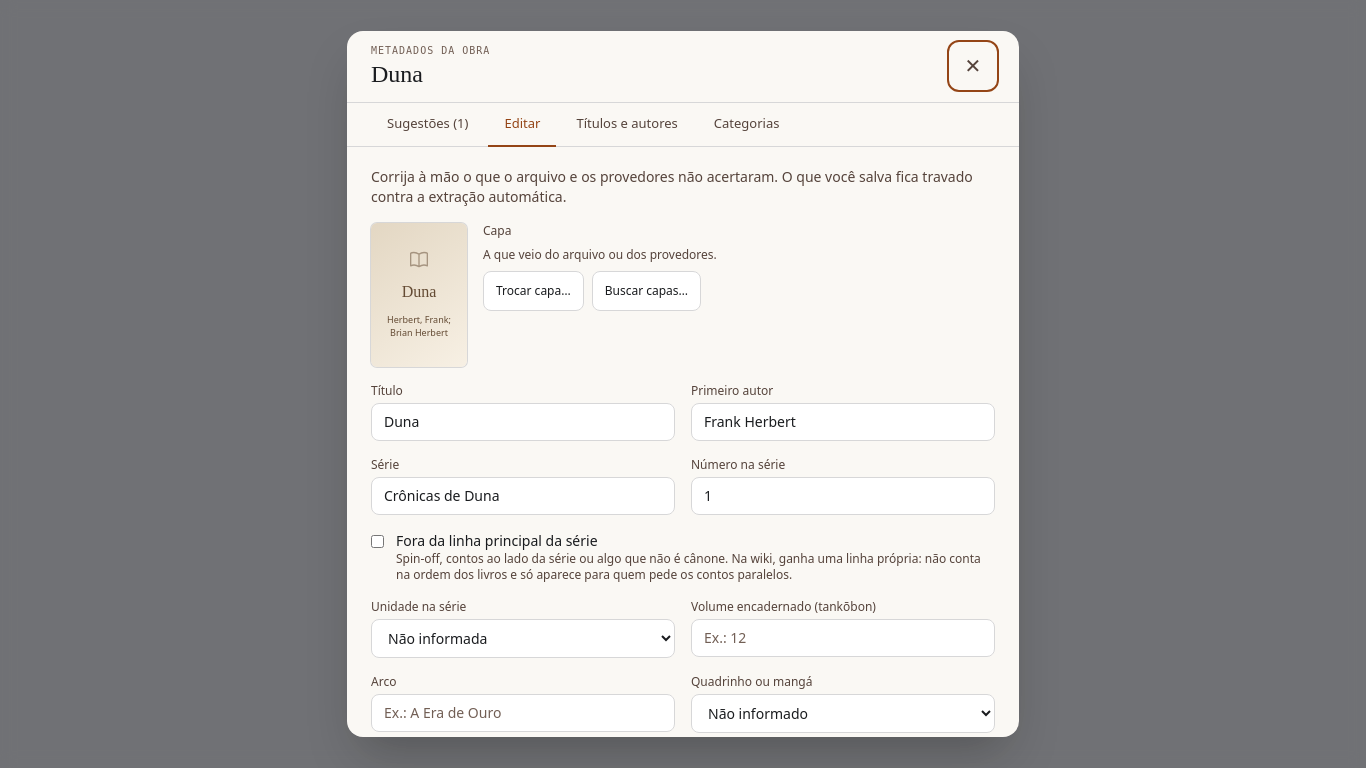
Test case: EditBookModal: the metadata of a work (#70) › opens on the part it was asked for and moves between the two
Expected: the text "Nada muda até você aceitar" is not shown
Click the tab "Sugestões (1)". click: {"x": 428, "y": 125}
box: left=371, top=103, right=484, bottom=147
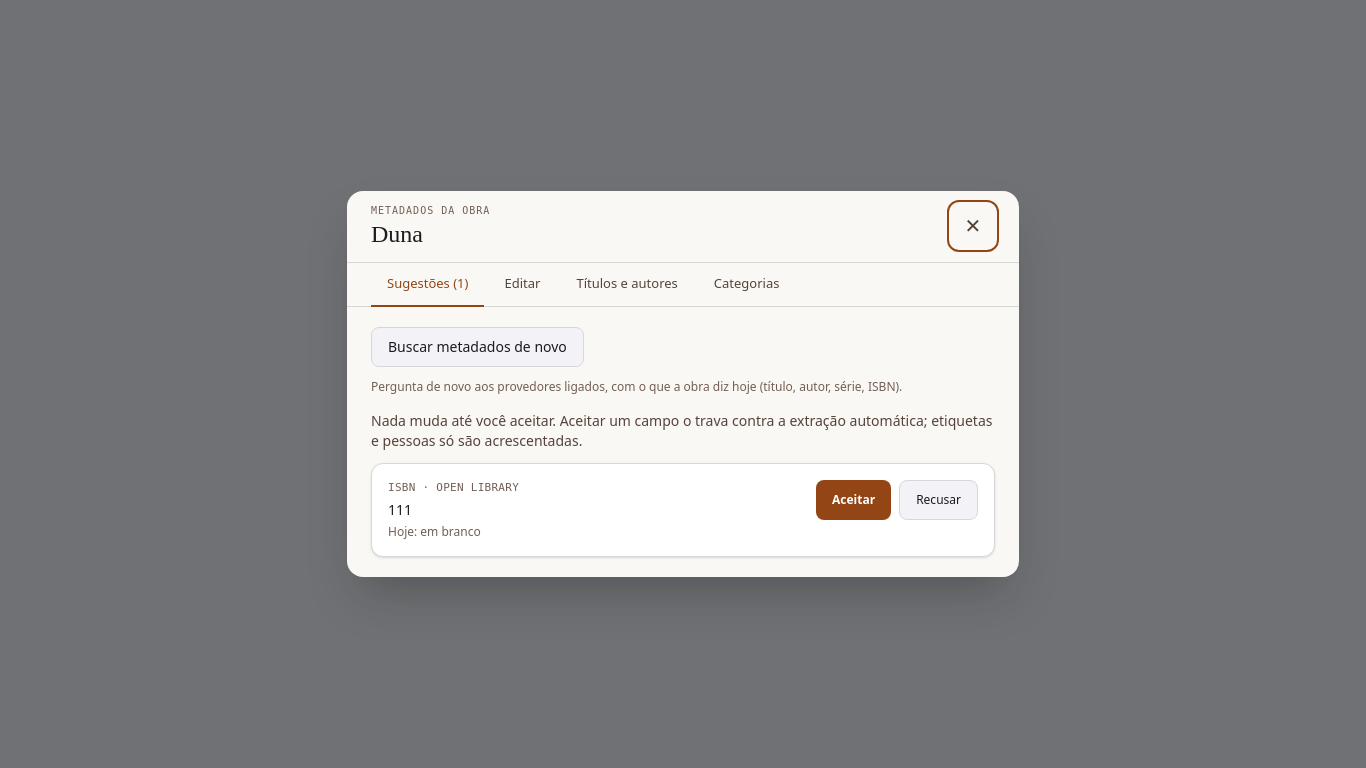
Expected: the text "Nada muda até você aceitar" is shown, left=371, top=411, right=992, bottom=450
